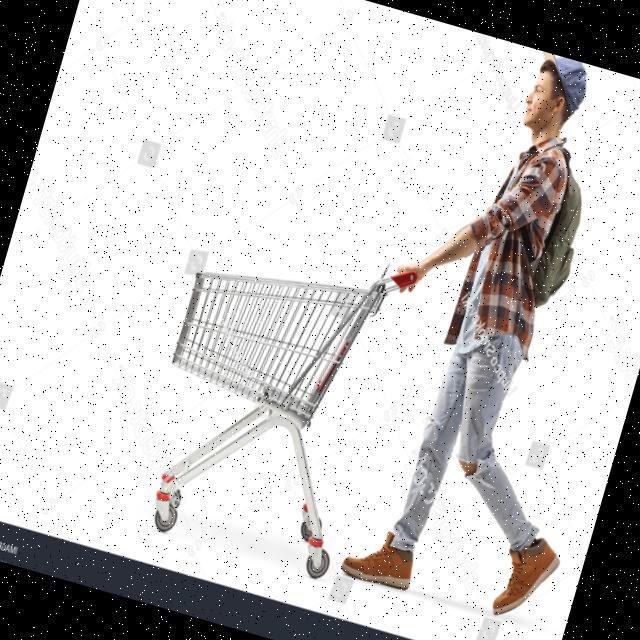Person: (312, 29, 640, 631)
